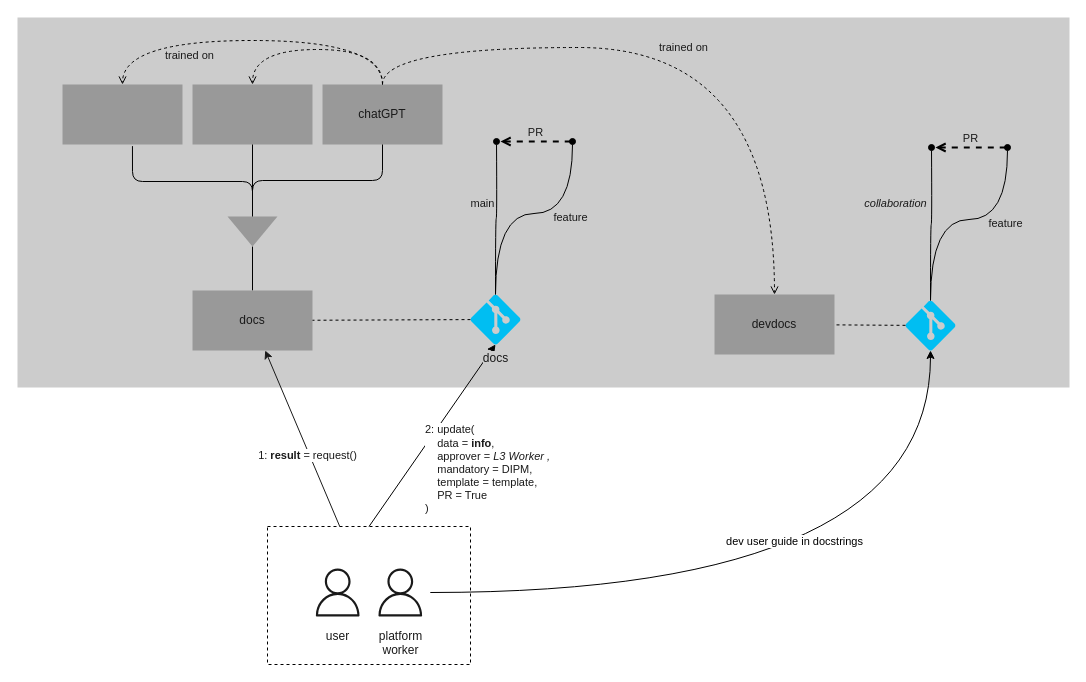
Some shapes in this 1086 by 682 pixel diagram are drawn without their labels. The shapes that lost their labels are listed below. From the top down, each one's centre as x and y in pixels, then its label:
the point at 122,114: user guide
the point at 252,114: FAQ
the point at 930,325: product
